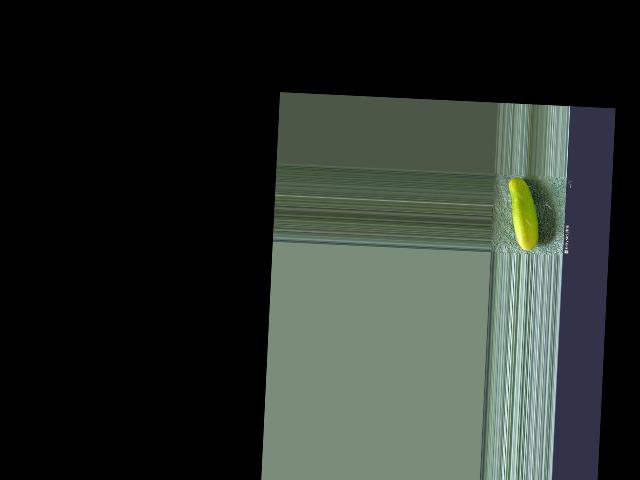cucumber: (505, 176, 541, 250)
